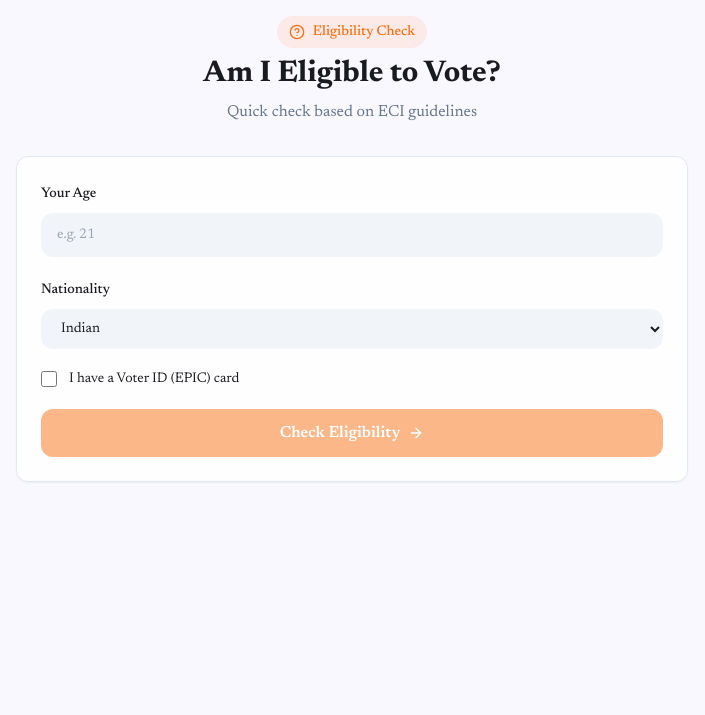
EligibilityPage › handles negative eligibility
Type "15" into the number field labelled "Your Age" at (352, 235), box [41, 213, 663, 257]
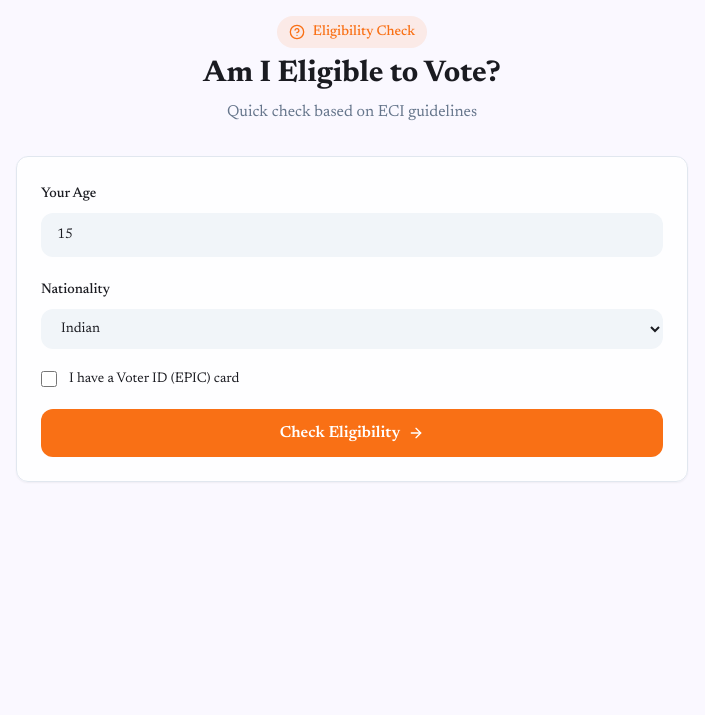
Click the button "Check Eligibility" at (352, 433), box [41, 409, 663, 457]
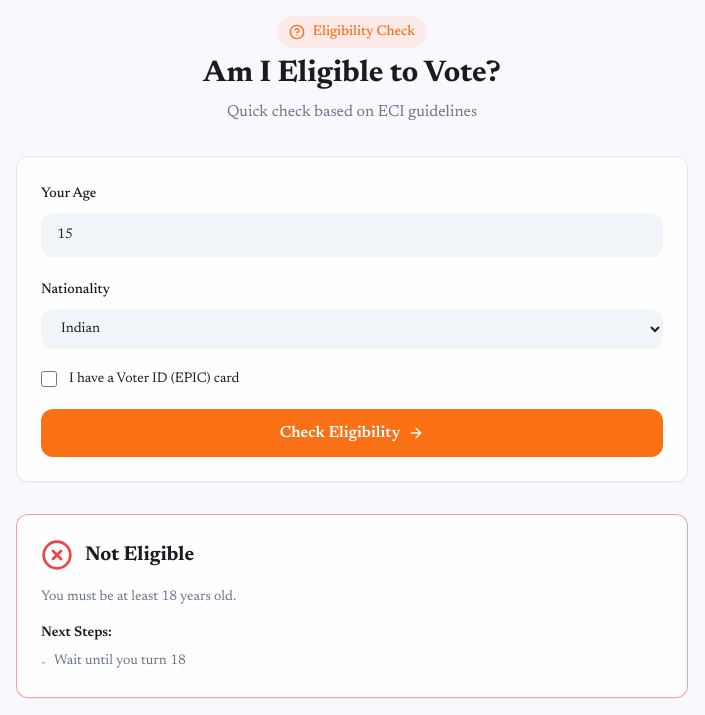
Expected: the heading "Not Eligible" is shown, [85, 541, 194, 569]
Expected: the text "You must be at least 18 years old." is shown, [41, 590, 236, 604]
